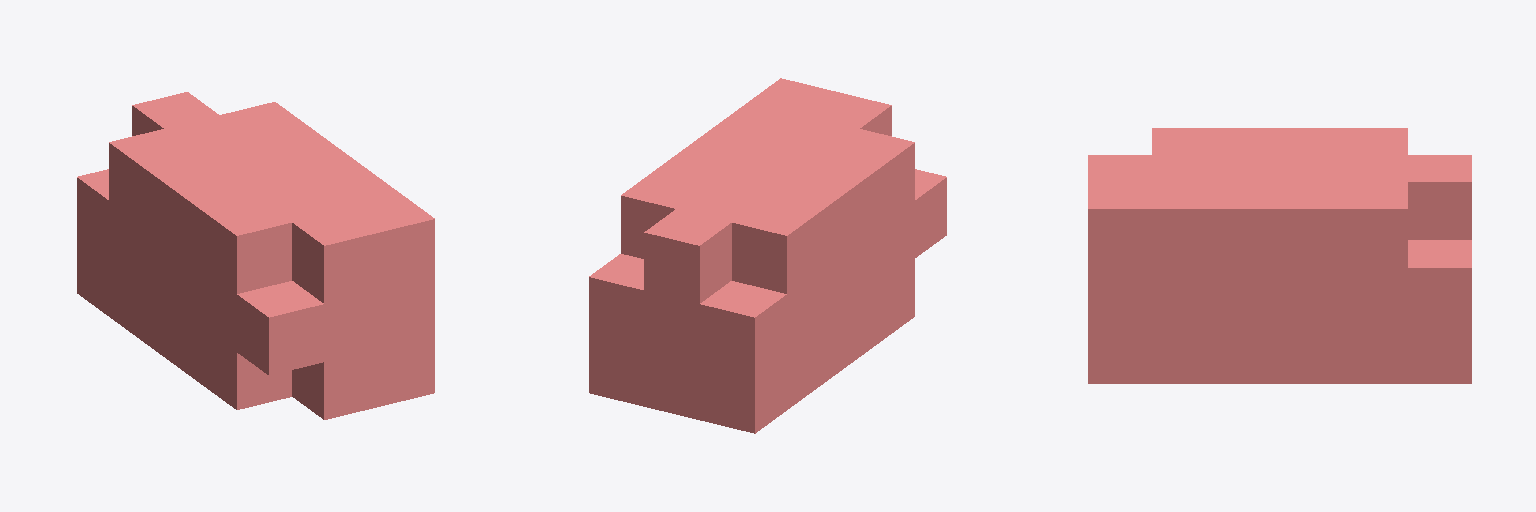
The model's file is leftHand.obj.
The picture shows the model from 3 angles: view 1: azimuth 30°, elevation 25°; view 2: azimuth 150°, elevation 25°; view 3: azimuth 270°, elevation 25°; orthographic projection.
Parts seen in each view (by area): view 1: leftHand_Cube.635; view 2: leftHand_Cube.635; view 3: leftHand_Cube.635.
Part boxes in pixels (left/top/right/bottom): leftHand_Cube.635: left=77, top=92, right=434, bottom=419; leftHand_Cube.635: left=589, top=78, right=946, bottom=433; leftHand_Cube.635: left=1088, top=128, right=1471, bottom=383.
Size of the model in its own units: 3 by 3 by 6.